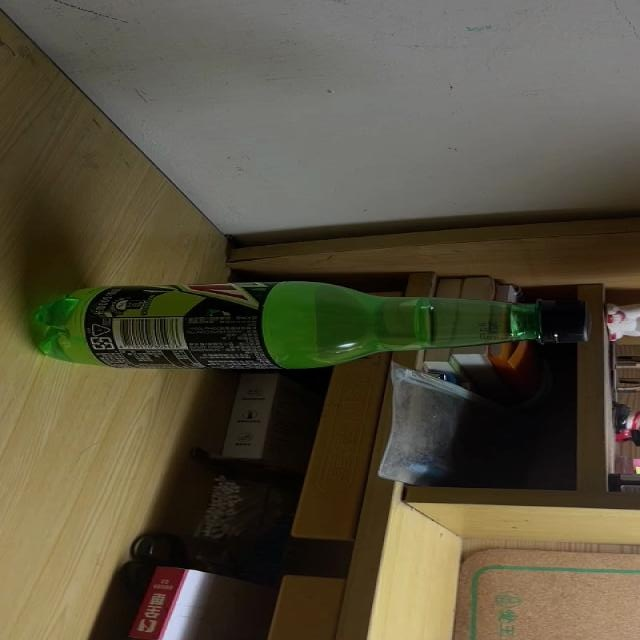Mountain-Dew: (31, 280, 589, 371)
